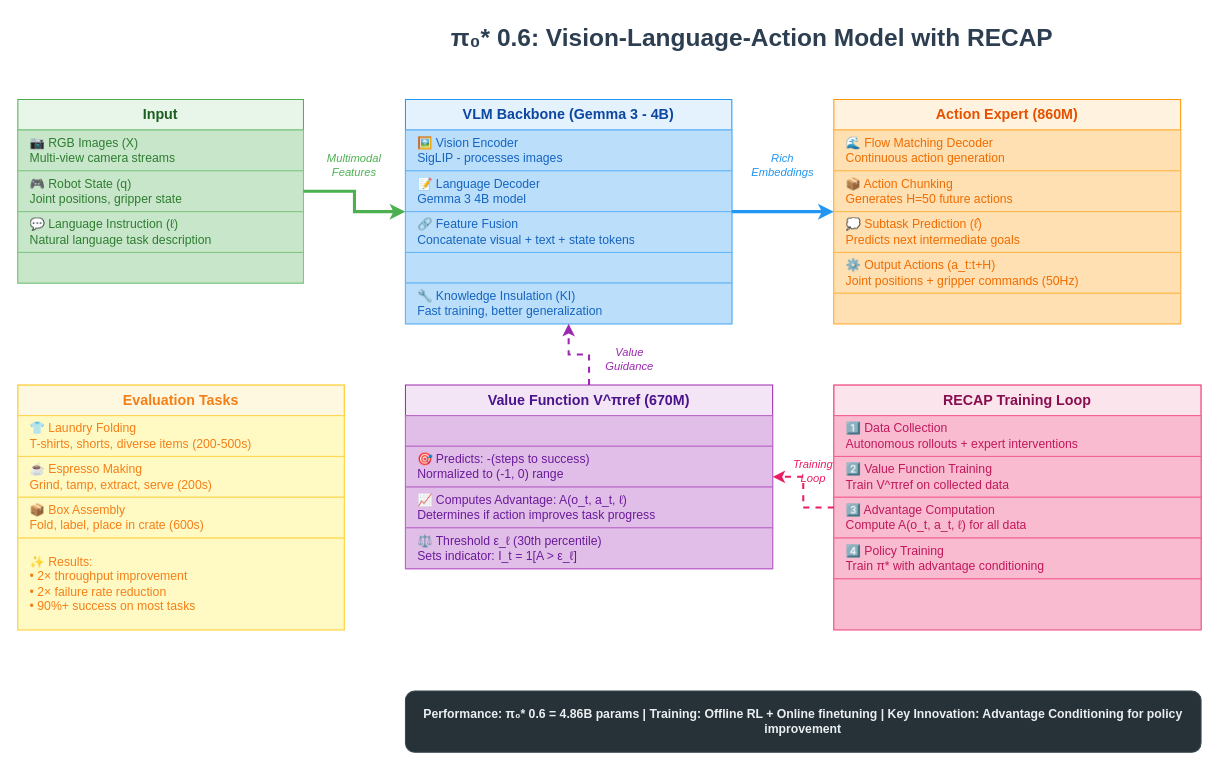
This 1219x770 diagram has some shape labels left out. Each missing label, with the centre of its shape:
5️⃣ Iterate Repeat until performance saturates: point 1017,604
⚡ Advantage Indicator (I_t) 'Advantage: positive/negative': point 160,267
➡️ Output Features (o_t) Rich multimodal embeddings: point 568,267
🎯 Advantage Conditioning Uses I_t to guide action quality: point 1007,308
📊 Input: Observation (o_t) + Task (ℓ): point 588,430
